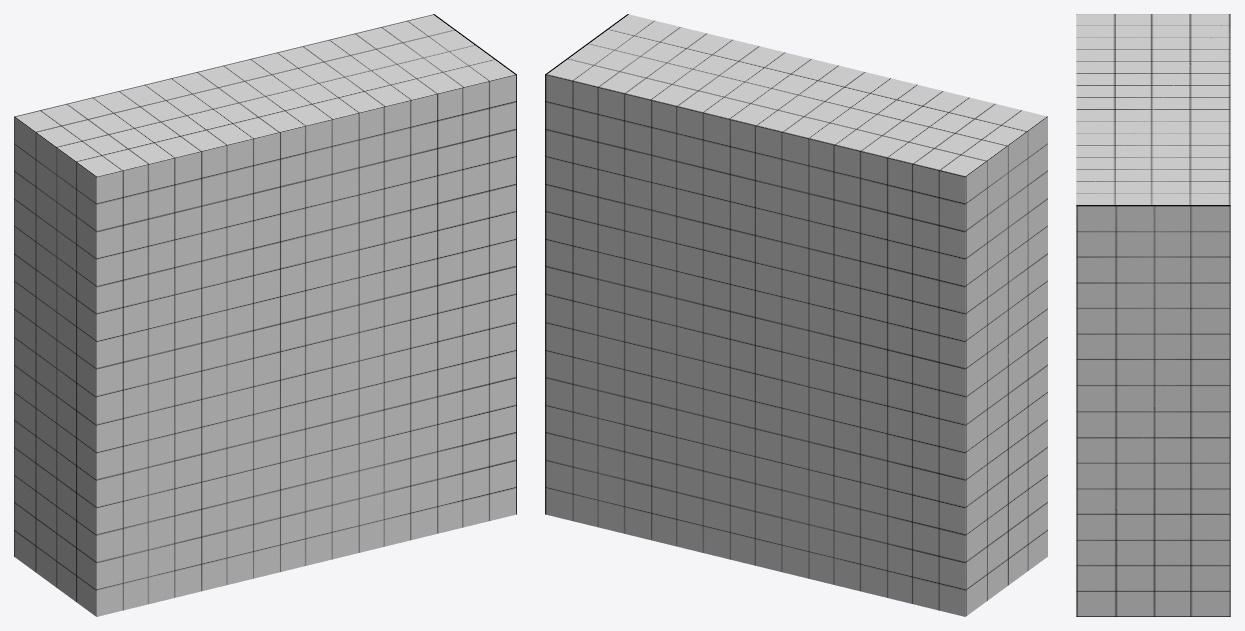
The model's file is Dark_Wall_Thick.fbx.
3 renders of one model, left to right at view 1: azimuth 30°, elevation 25°; view 2: azimuth 150°, elevation 25°; view 3: azimuth 270°, elevation 25°, orthographic. The views are drawn at different scales.
Visible parts, largest first — view 1: Dark_Wall_Thick; view 2: Dark_Wall_Thick; view 3: Dark_Wall_Thick.
Part boxes in pixels (<box>): Dark_Wall_Thick: <box>14,14,516,616</box>; Dark_Wall_Thick: <box>545,14,1047,616</box>; Dark_Wall_Thick: <box>1076,14,1230,616</box>.
Size of the model in its own units: 150 by 150 by 51.
Materials: 1 (1 with a texture image).
